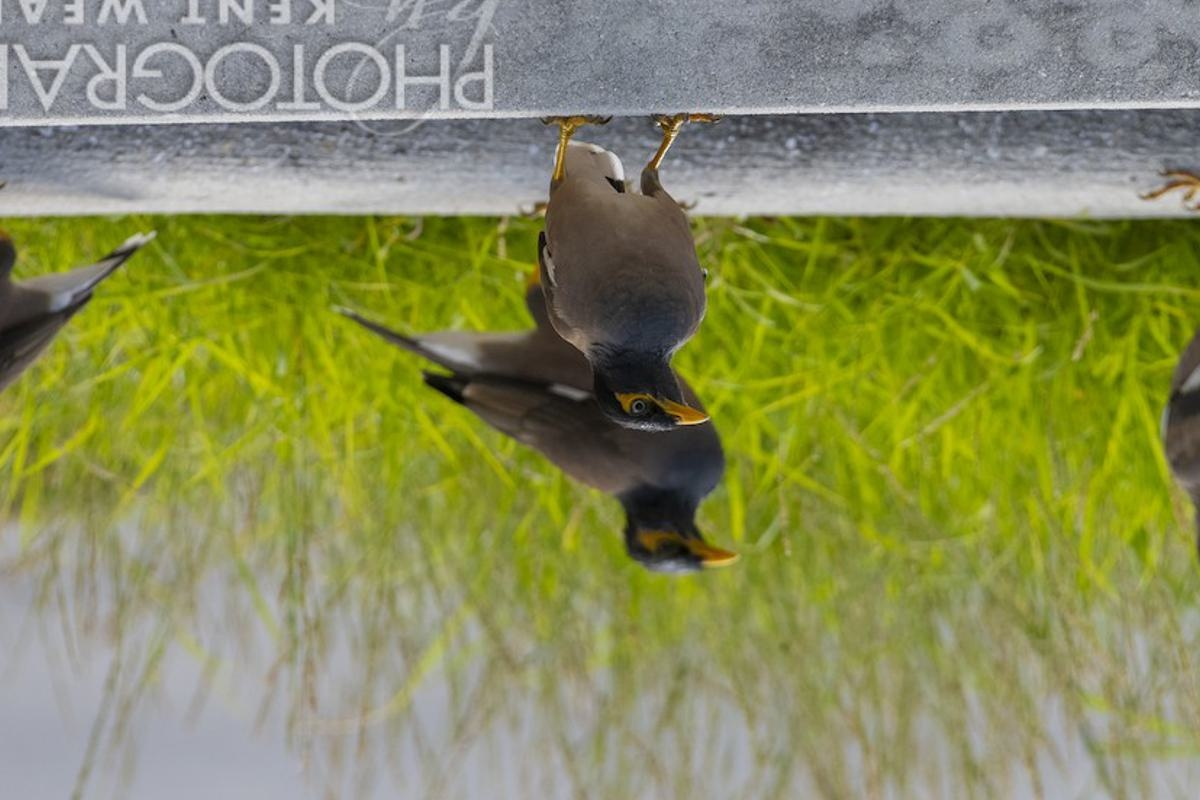myna: (454, 361, 755, 602), (521, 96, 718, 441)
